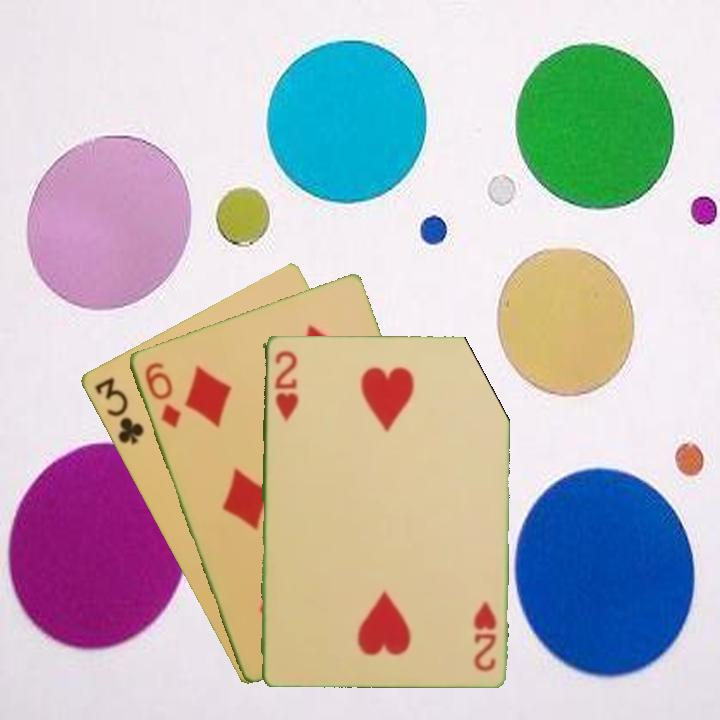2h: (271, 347, 300, 424), (469, 597, 498, 674)
3c: (90, 373, 147, 448)
6d: (140, 358, 184, 431)
